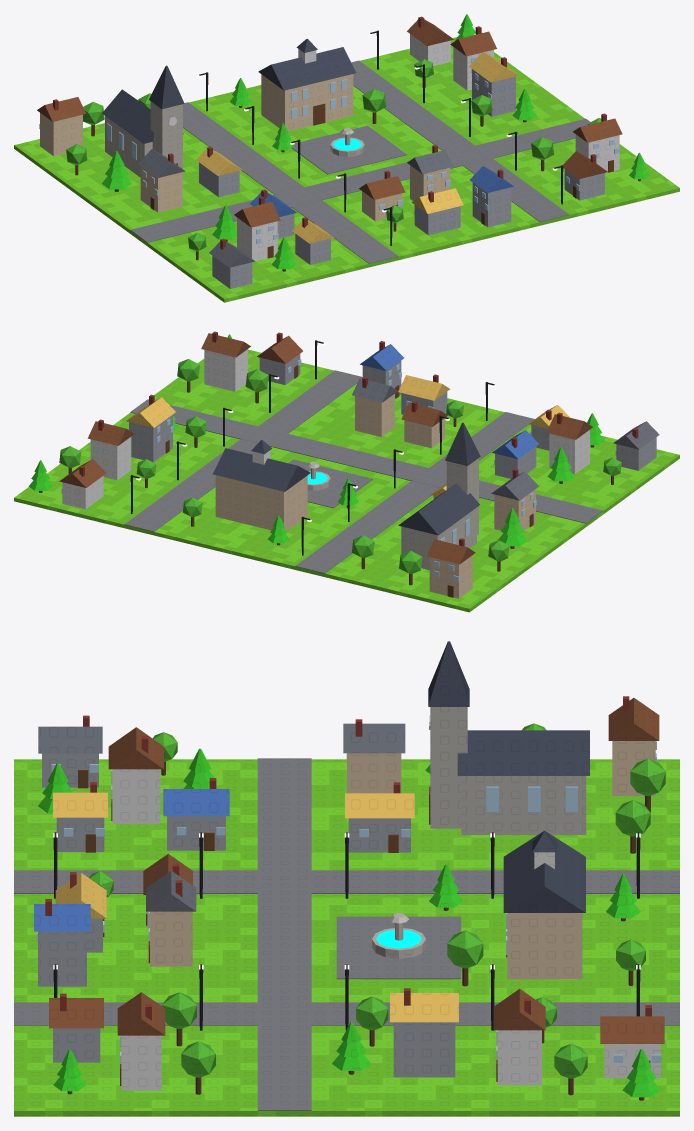
Rendered from Ville_02.glb.
3 renders of one model, top to bottom at view 1: azimuth 30°, elevation 25°; view 2: azimuth 150°, elevation 25°; view 3: azimuth 270°, elevation 25°, orthographic. The views are drawn at different scales.
Parts seen in each view (by area): view 1: Ville_02; view 2: Ville_02; view 3: Ville_02.
Boxes of the visible parts, <box> form: Ville_02: <box>14,14,679,302</box>; Ville_02: <box>14,331,679,612</box>; Ville_02: <box>14,641,679,1116</box>.
Size of the model in its own units: 40 by 9.8 by 32.
Materials: 20 (14 with a texture image).
